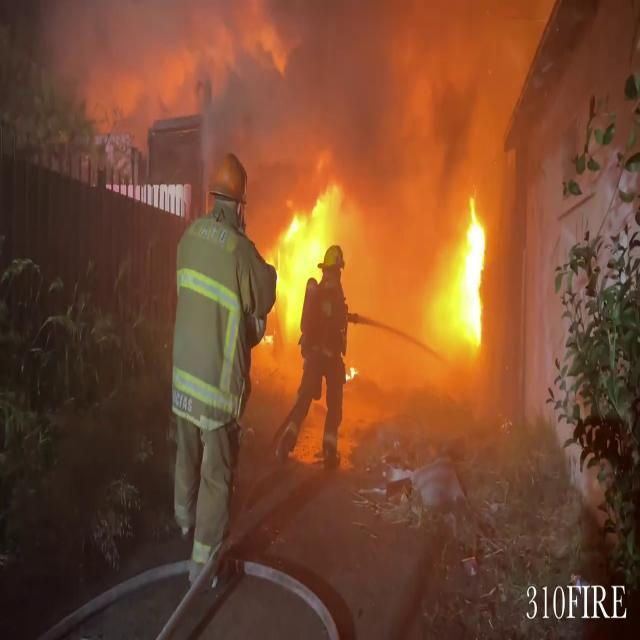Fire: (268, 174, 346, 346), (428, 190, 494, 358)
Smoke: (150, 0, 548, 299)
